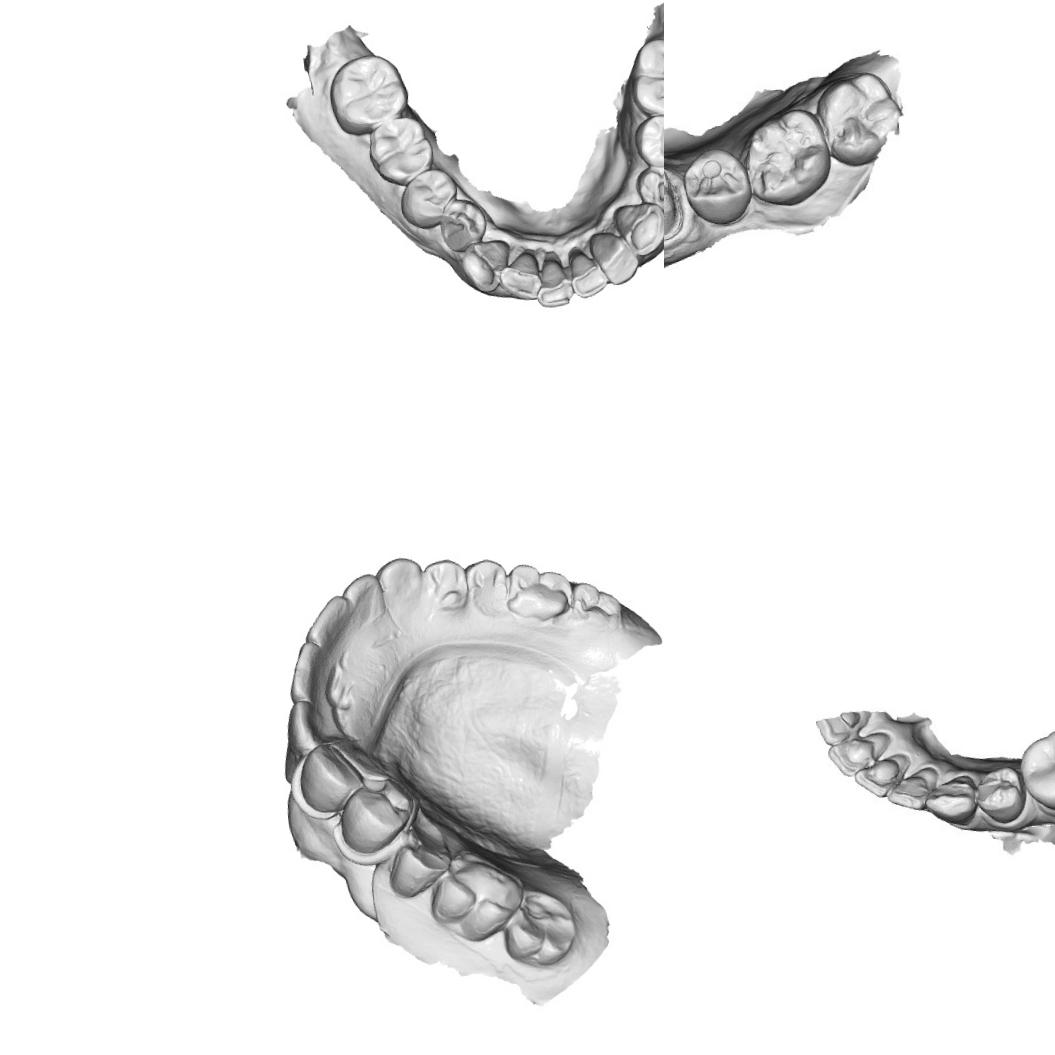canine: (295, 741, 370, 818), (374, 552, 432, 618), (454, 236, 514, 296), (610, 199, 664, 262), (921, 774, 979, 826)
crown: (664, 158, 689, 246)
incisor: (282, 638, 342, 701), (850, 754, 910, 804), (881, 764, 940, 814), (825, 730, 884, 780), (302, 591, 356, 645), (285, 700, 336, 755), (531, 248, 576, 310), (494, 247, 542, 303), (594, 231, 641, 287), (565, 244, 610, 300), (338, 570, 384, 623)
molar: (738, 106, 836, 212), (811, 67, 905, 170), (426, 856, 528, 950), (327, 49, 413, 137), (499, 886, 578, 968), (364, 112, 440, 190), (501, 556, 576, 627), (1014, 723, 1055, 821), (564, 576, 628, 635), (624, 30, 664, 123)
premolar: (674, 144, 756, 231), (340, 782, 415, 850), (970, 758, 1030, 828), (399, 166, 461, 230), (386, 836, 449, 898), (433, 194, 492, 253), (421, 552, 473, 615), (464, 557, 510, 609), (633, 109, 664, 170), (635, 160, 664, 215)
